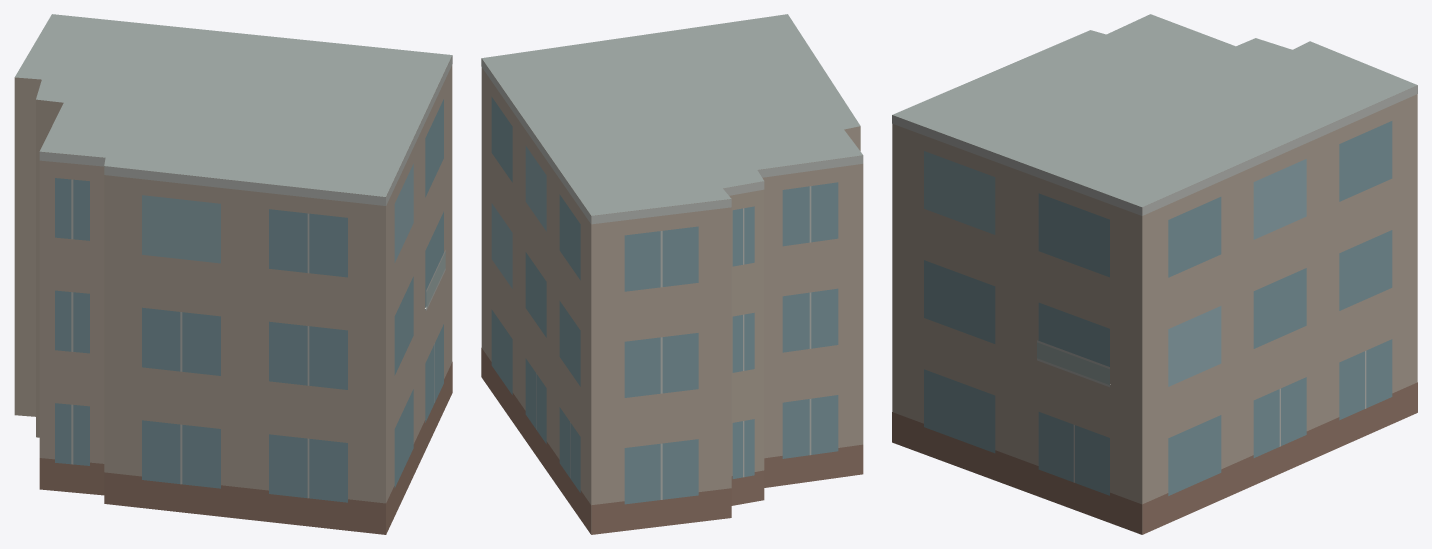
File: survey-upis-32688515.glb
The picture shows the model from 3 angles, left to right: view 1: azimuth 30°, elevation 25°; view 2: azimuth 150°, elevation 25°; view 3: azimuth 270°, elevation 25°; orthographic projection. The views are drawn at different scales.
Visible parts, largest first — view 1: survey-upis-32688515.tmp; view 2: survey-upis-32688515.tmp; view 3: survey-upis-32688515.tmp.
Part boxes in pixels (x1,y1,x2,y2): survey-upis-32688515.tmp: [14, 14, 452, 534]; survey-upis-32688515.tmp: [481, 14, 863, 534]; survey-upis-32688515.tmp: [892, 14, 1417, 534].
Bounding box in the file's own units: 11.59 × 9.15 × 13.32.
